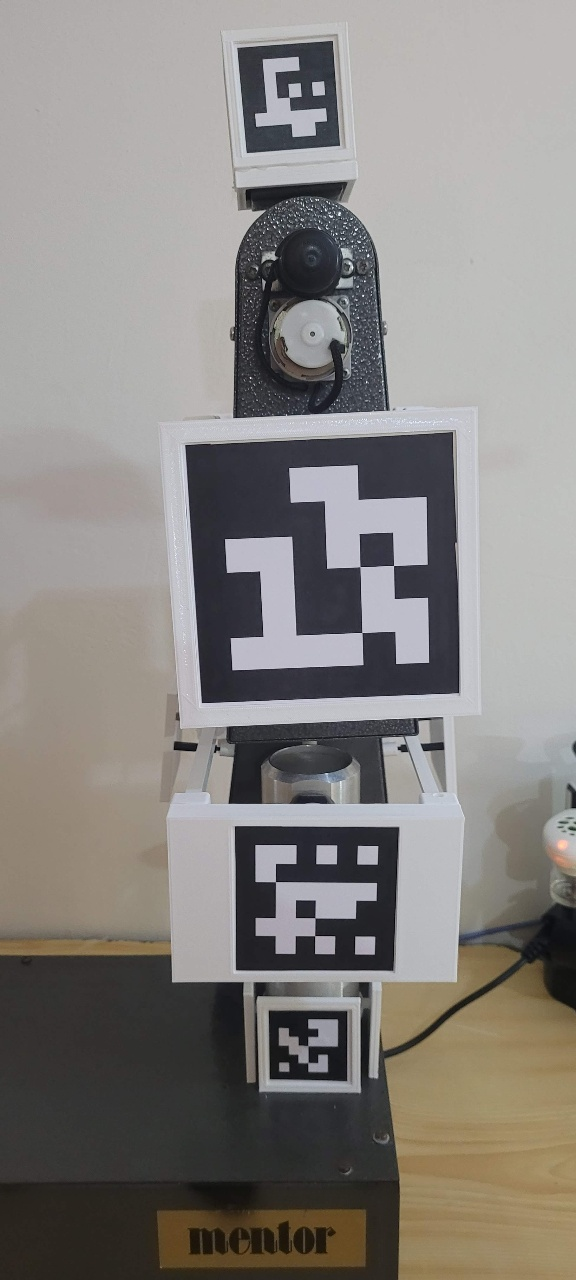Robot: (159, 20, 480, 1111)
